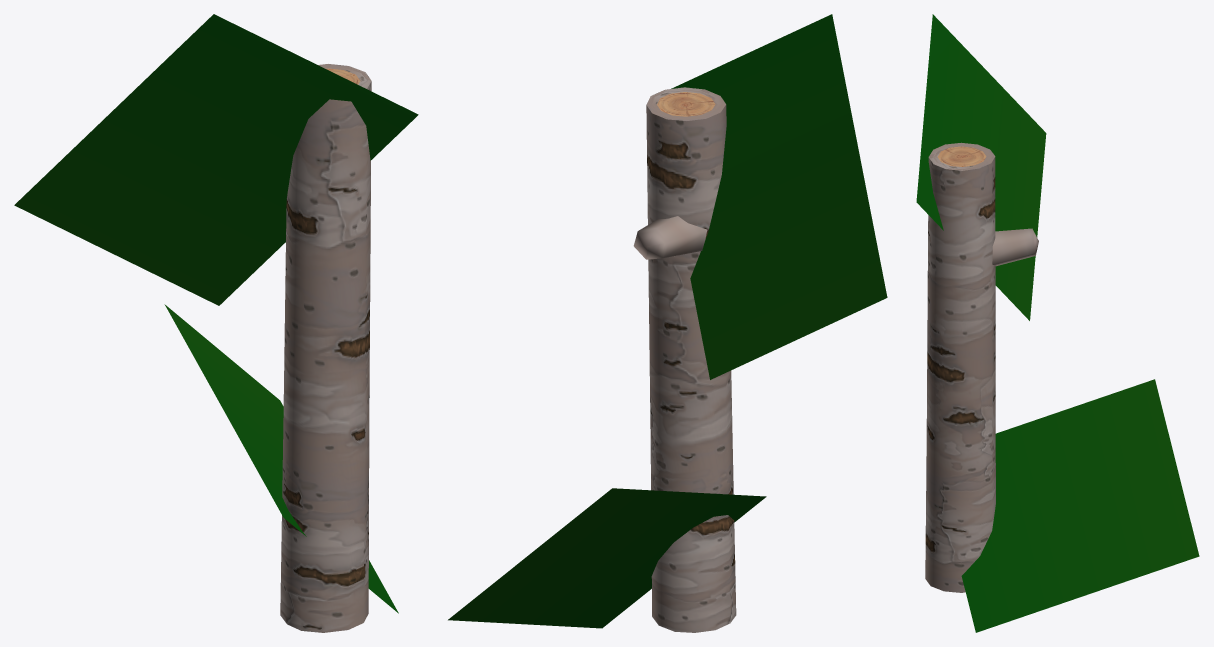
File: obj_harvests_trees_birch02_p03.fbx
3 renders of one model, left to right at view 1: azimuth 30°, elevation 25°; view 2: azimuth 150°, elevation 25°; view 3: azimuth 270°, elevation 25°, orthographic. The views are drawn at different scales.
Parts seen in each view (by area): view 1: chunk03; view 2: chunk03; view 3: chunk03.
Part boxes in pixels (x1=…): chunk03: x1=14, y1=14, x2=418, y2=632; chunk03: x1=448, y1=14, x2=887, y2=632; chunk03: x1=916, y1=14, x2=1199, y2=632.
Size of the model in its own units: 5.71 by 10.12 by 4.84.
